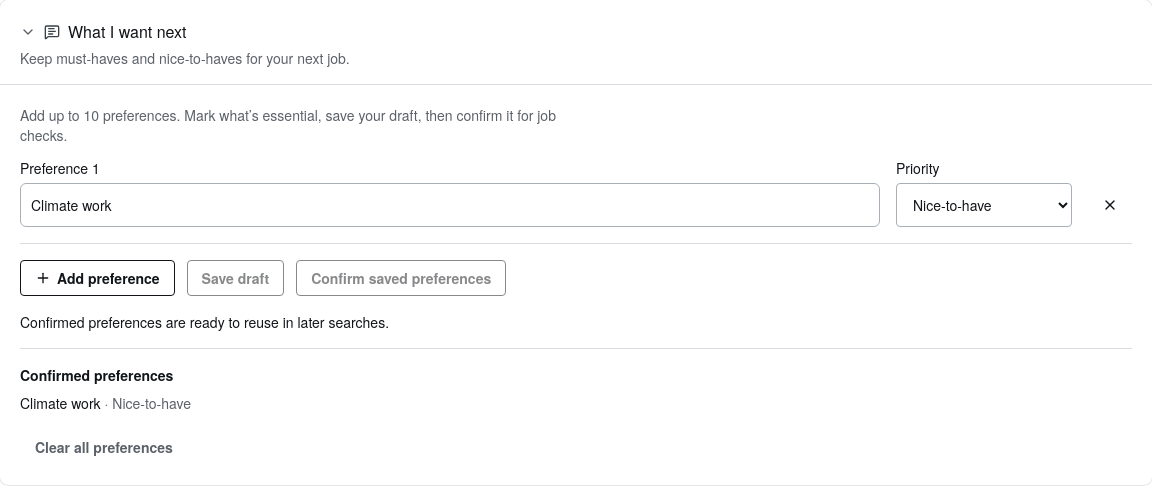
Test: reopens a confirmed summary and clears only the current profile revision
Expected: the field labelled "Preference 1" holds "Climate work", [20, 183, 880, 227]
Expected: the dropdown named "Priority 1" shows "Nice-to-have", [896, 183, 1072, 227]
Click the button "Clear all preferences".
click(104, 447)  # box [20, 429, 188, 465]
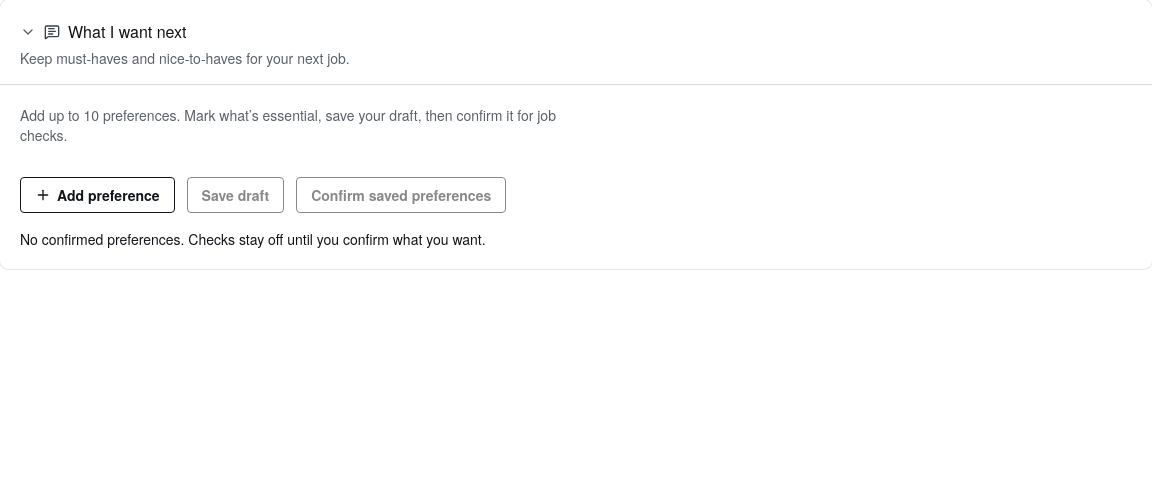
Expected: the text "No confirmed preferences. Checks stay off until you confirm what you want." is shown, [20, 229, 486, 249]
Expected: the label "Preference 1" is gone
